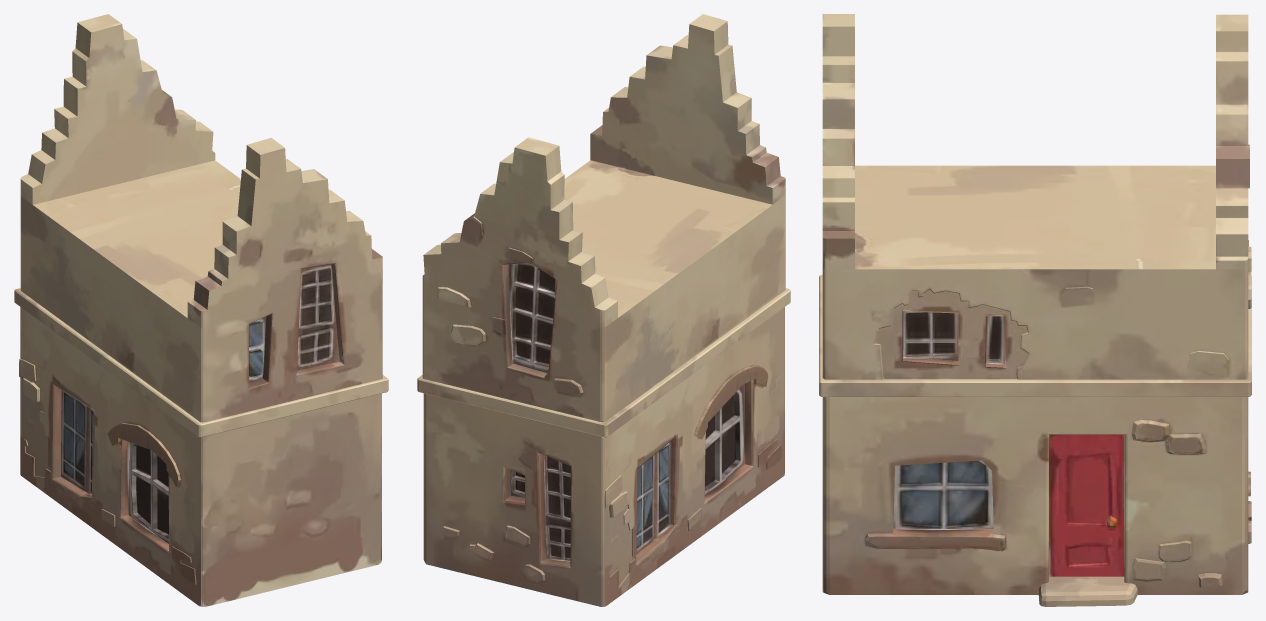
The model's file is sf_house_1.glb.
3 renders of one model, left to right at view 1: azimuth 30°, elevation 25°; view 2: azimuth 150°, elevation 25°; view 3: azimuth 270°, elevation 25°, orthographic. The views are drawn at different scales.
Parts seen in each view (by area): view 1: soloport_house_highpoly_soloport_house_0; view 2: soloport_house_highpoly_soloport_house_0; view 3: soloport_house_highpoly_soloport_house_0.
Part boxes in pixels (box(x1,y1,x2,y2)): soloport_house_highpoly_soloport_house_0: box(14, 14, 388, 606); soloport_house_highpoly_soloport_house_0: box(417, 14, 790, 606); soloport_house_highpoly_soloport_house_0: box(819, 14, 1251, 606).
Bounding box in the file's own units: 3.95 × 8 × 6.13.
Materials: 1 (1 with a texture image).
